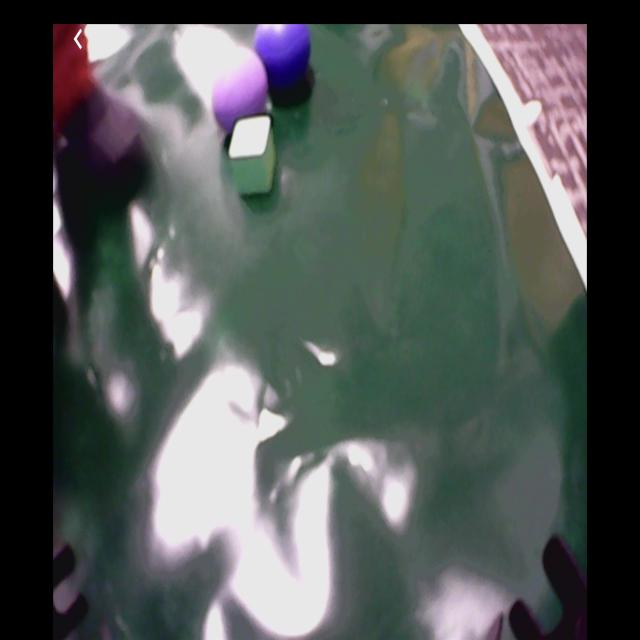ball: (213, 49, 267, 129), (255, 27, 312, 84)
